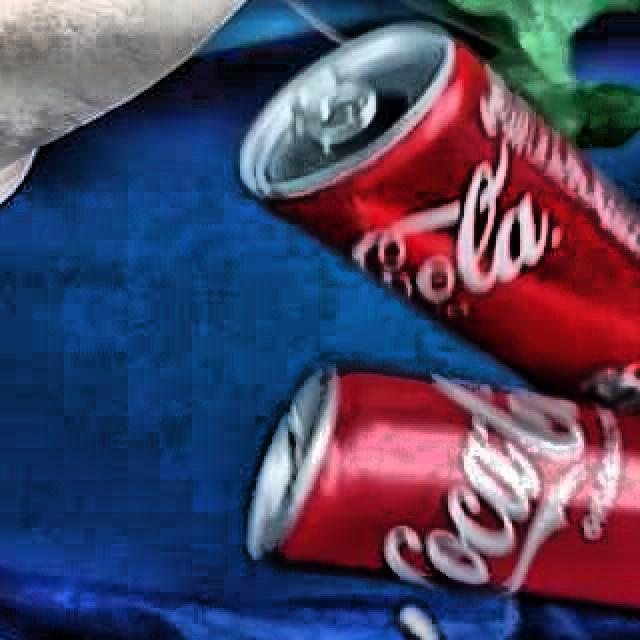metal: (241, 24, 640, 611)
